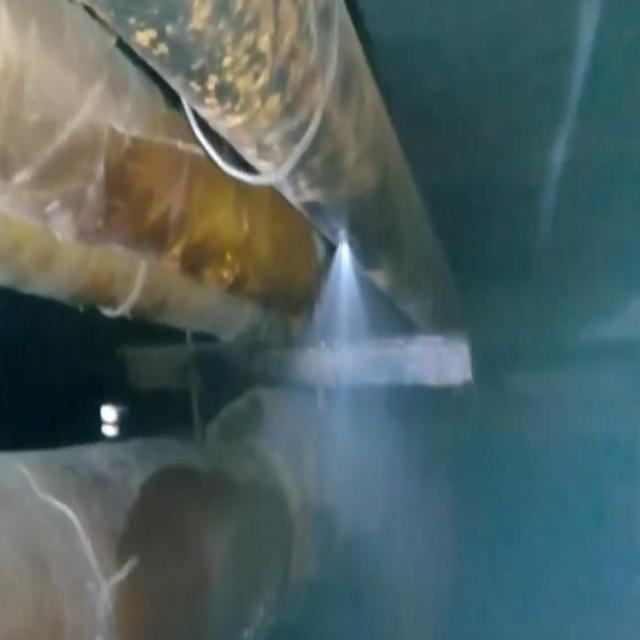leak: (242, 242, 417, 527)
